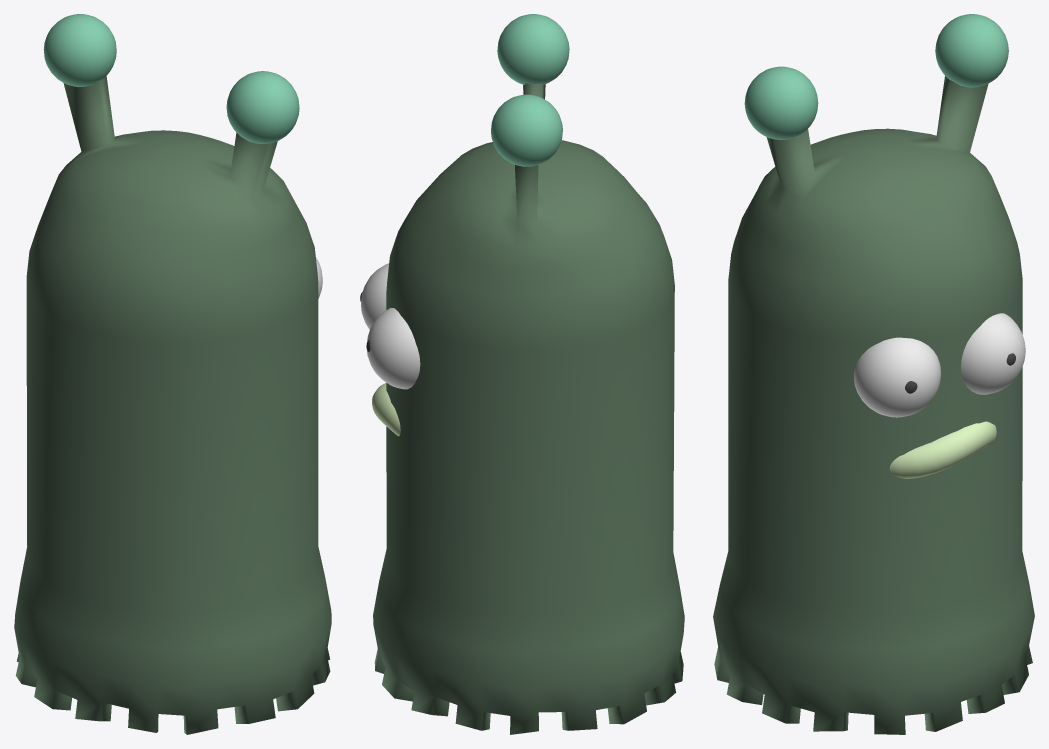
File: player1.fbx
3 renders of one model, left to right at view 1: azimuth 30°, elevation 25°; view 2: azimuth 150°, elevation 25°; view 3: azimuth 270°, elevation 25°, orthographic.
Parts seen in each view (by area): view 1: Sphere, Sphere.001, Sphere.002; view 2: Sphere, Sphere.002, Sphere.001, Sphere.004, Sphere.003, BezierCurve; view 3: Sphere, Sphere.003, Sphere.001, Sphere.002, Sphere.004, BezierCurve.
Part boxes in pixels (<box>): Sphere: <box>14,76,331,734</box>; Sphere.001: <box>226,71,299,143</box>; Sphere.002: <box>43,14,116,86</box>; Sphere: <box>373,83,684,734</box>; Sphere.002: <box>491,94,562,166</box>; Sphere.001: <box>497,14,569,84</box>; Sphere.004: <box>366,308,420,389</box>; Sphere.003: <box>361,263,388,329</box>; BezierCurve: <box>372,383,400,436</box>; Sphere: <box>713,76,1034,734</box>; Sphere.003: <box>854,337,941,417</box>; Sphere.001: <box>744,66,818,139</box>; Sphere.002: <box>935,14,1008,87</box>; Sphere.004: <box>961,313,1025,394</box>; BezierCurve: <box>889,421,996,478</box>.
Bounding box in the file's own units: 232 × 486 × 219.
